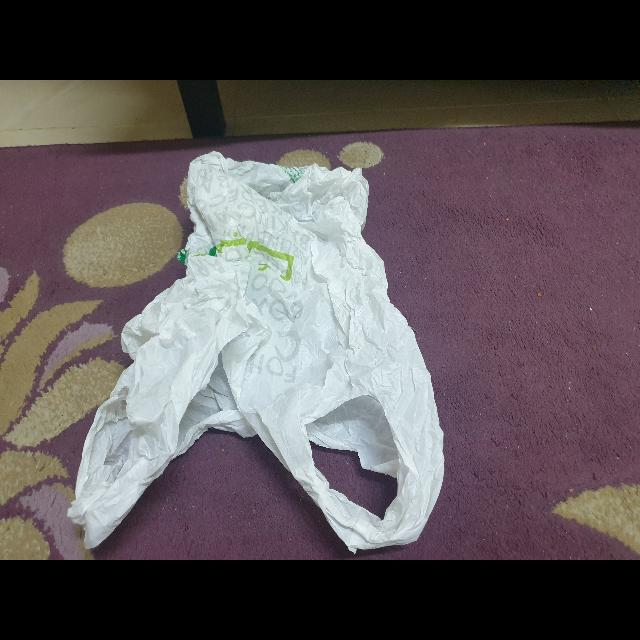plastic_bag: (58, 145, 452, 560)
